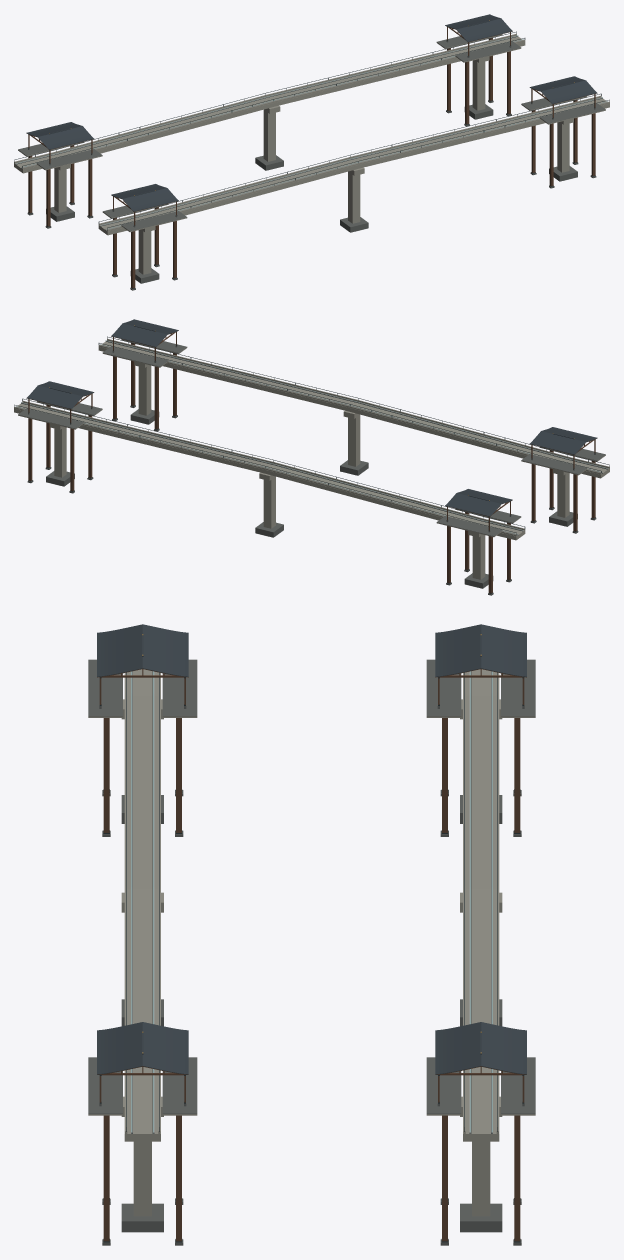
3 renders of one model, top to bottom at view 1: azimuth 30°, elevation 25°; view 2: azimuth 150°, elevation 25°; view 3: azimuth 270°, elevation 25°, orthographic. The views are drawn at different scales.
Parts seen in each view (by area): view 1: 连续箱梁、双导轨与侧缘 (×8), 实基础、墩柱、墩帽与独立支座 (×6), 连续飞檐与梁椽 (×4), 石铺面与混凝土承板 (×4); view 2: 连续箱梁、双导轨与侧缘 (×8), 实基础、墩柱、墩帽与独立支座 (×6), 连续飞檐与梁椽 (×4), 石铺面与混凝土承板 (×4); view 3: 连续箱梁、双导轨与侧缘 (×8), 连续飞檐与梁椽 (×4), 石铺面与混凝土承板 (×4), 实基础、墩柱、墩帽与独立支座 (×2), 石础、木柱与金属承箍 (×4).
Boxes of the visible parts, x1,y1,x2,y2 form: 连续箱梁、双导轨与侧缘 (×8): [14, 31, 609, 235]; 实基础、墩柱、墩帽与独立支座 (×6): [46, 56, 577, 283]; 连续飞檐与梁椽 (×4): [26, 14, 597, 211]; 石铺面与混凝土承板 (×4): [18, 34, 605, 232]; 连续箱梁、双导轨与侧缘 (×8): [14, 336, 609, 540]; 实基础、墩柱、墩帽与独立支座 (×6): [46, 361, 577, 588]; 连续飞檐与梁椽 (×4): [26, 319, 597, 516]; 石铺面与混凝土承板 (×4): [18, 339, 605, 537]; 连续箱梁、双导轨与侧缘 (×8): [124, 669, 499, 1141]; 连续飞檐与梁椽 (×4): [97, 624, 526, 1075]; 石铺面与混凝土承板 (×4): [88, 659, 535, 1115]; 实基础、墩柱、墩帽与独立支座 (×2): [121, 1096, 502, 1232]; 石础、木柱与金属承箍 (×4): [102, 718, 521, 1245].
Size of the model in its own units: 192 by 33.1 by 74.
Materials: 13 (13 with a texture image).
